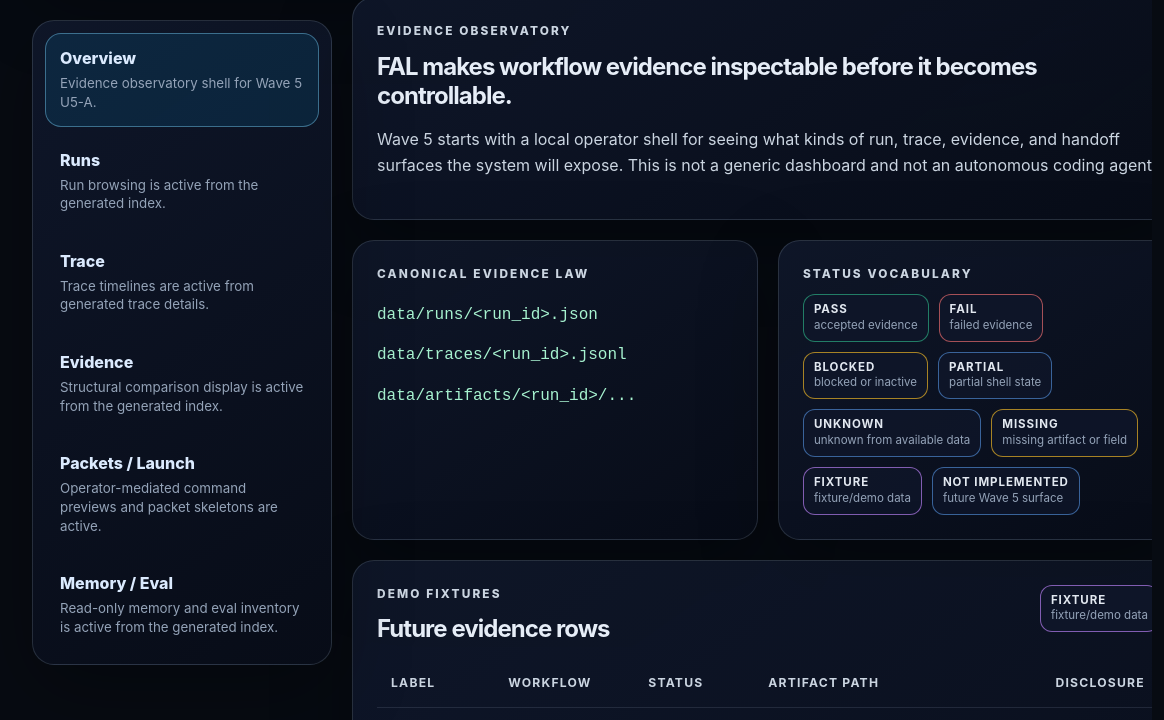
Test: U5-A workbench shell › rejects wrong comparison index schema version
(page scrolled)
Click the button "Evidence". click: (182, 384)
box: [45,337,319,430]
(page scrolled)
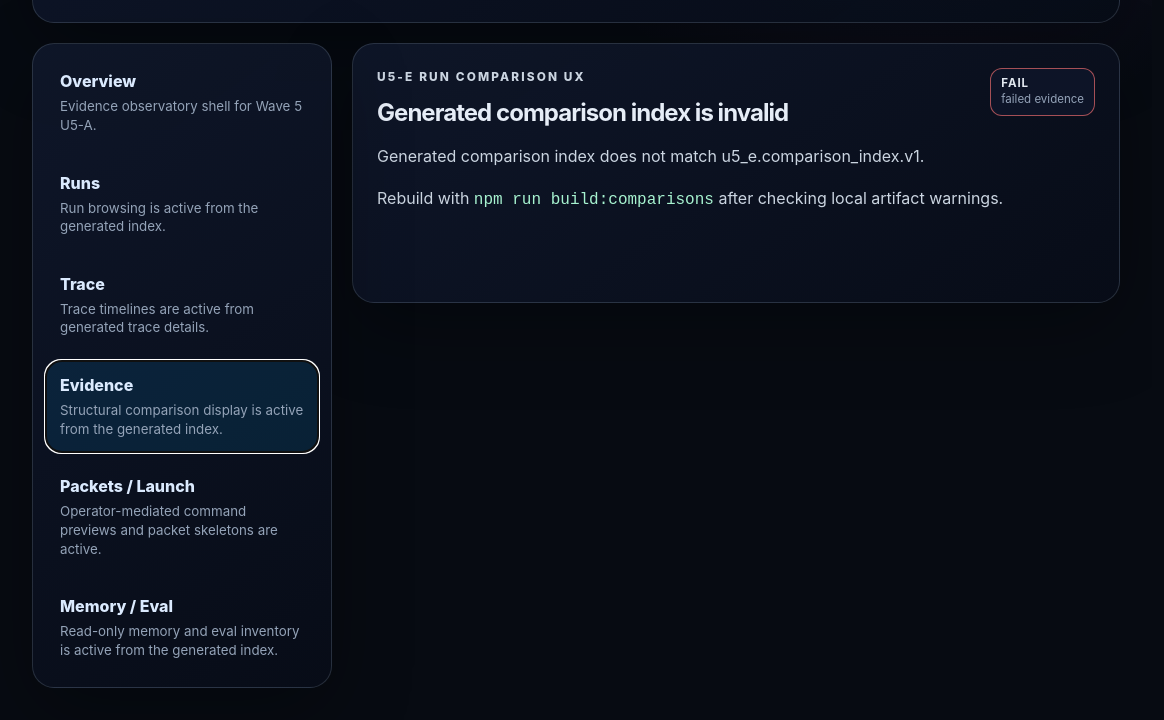
Expected: the heading "Generated comparison index is invalid" is shown, [377,98,788,127]
Expected: the text "does not match u5_e.comparison_index.v1" is shown, [377,146,924,166]
